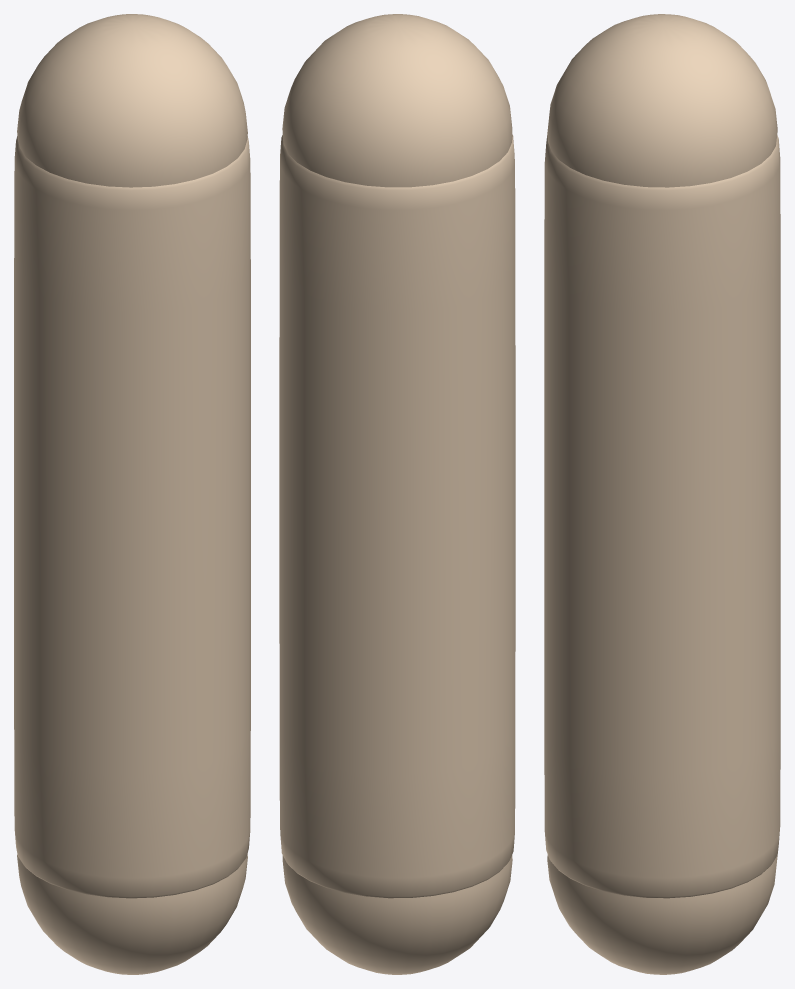
File: PROP_Log_v0.glb
The picture shows the model from 3 angles, left to right: view 1: azimuth 30°, elevation 25°; view 2: azimuth 150°, elevation 25°; view 3: azimuth 270°, elevation 25°; orthographic projection.
Visible parts, largest first — view 1: PROP_Log_v0; view 2: PROP_Log_v0; view 3: PROP_Log_v0.
Boxes of the visible parts, <box> form: PROP_Log_v0: <box>14,14,250,974</box>; PROP_Log_v0: <box>279,14,515,974</box>; PROP_Log_v0: <box>544,14,780,974</box>.
Size of the model in its own units: 0.4278 by 1.88 by 0.4278.
